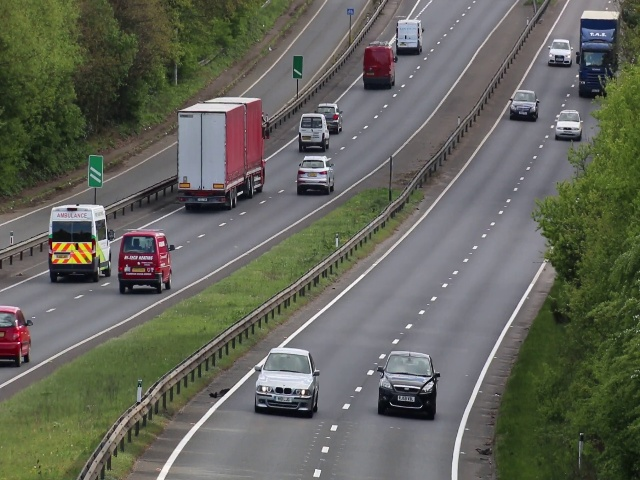car: (176, 93, 271, 214), (41, 200, 113, 281), (251, 350, 323, 417), (377, 352, 439, 422), (117, 230, 173, 298), (1, 307, 32, 362), (299, 148, 333, 195), (363, 44, 397, 90), (299, 111, 329, 154), (395, 17, 425, 55), (507, 86, 538, 122), (552, 106, 582, 142), (544, 37, 574, 71), (320, 99, 343, 136)
